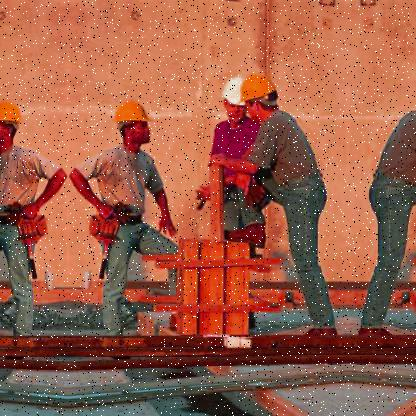Helmet: (241, 73, 281, 122), (116, 102, 156, 148), (221, 79, 250, 125), (0, 105, 24, 150)
